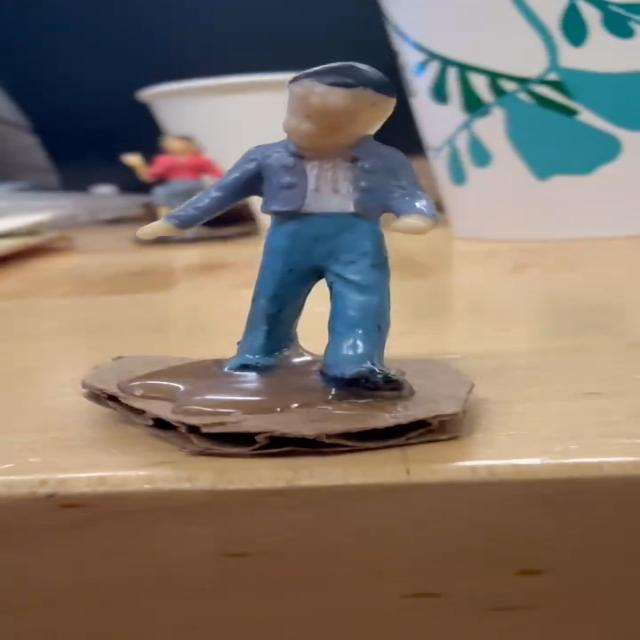Authorized: (131, 43, 435, 446)
